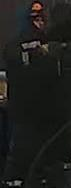helmet: (31, 4, 43, 10)
vest: (11, 39, 63, 119)
